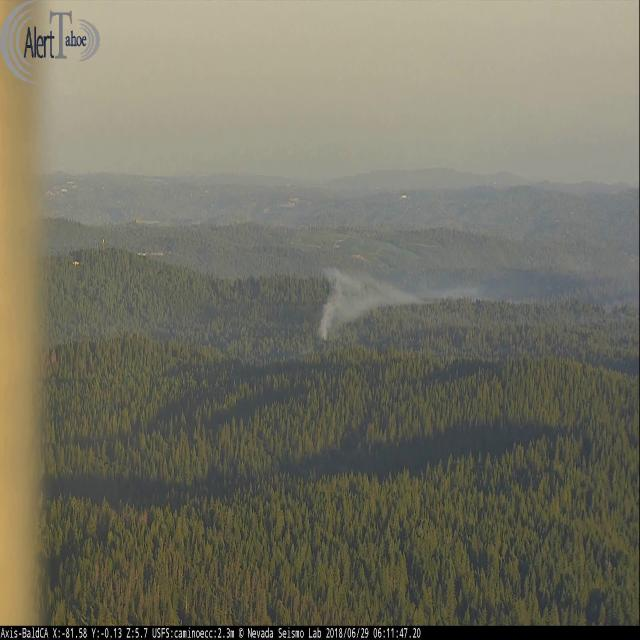smoke: (309, 266, 629, 353)
